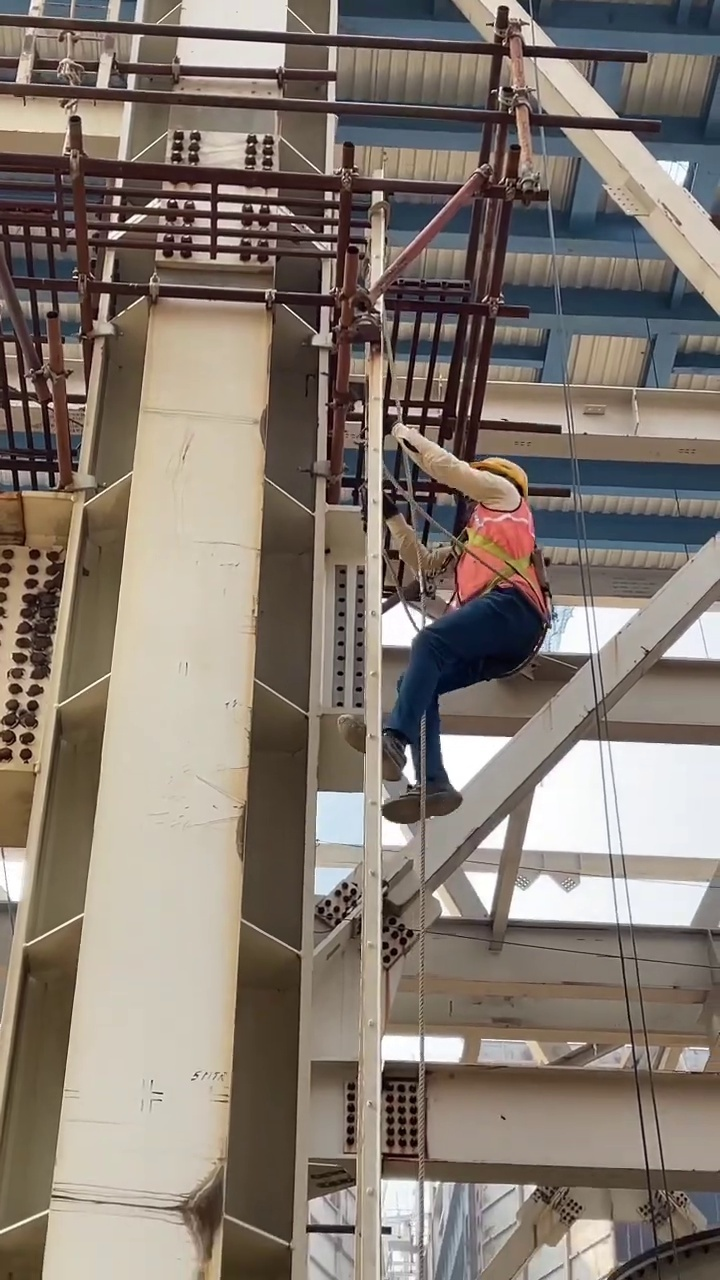Helmet: (476, 456, 528, 490)
Person: (336, 458, 550, 823)
Safety_Harness: (446, 496, 551, 624)
Safety_shoes: (337, 713, 405, 782), (384, 782, 461, 821)
